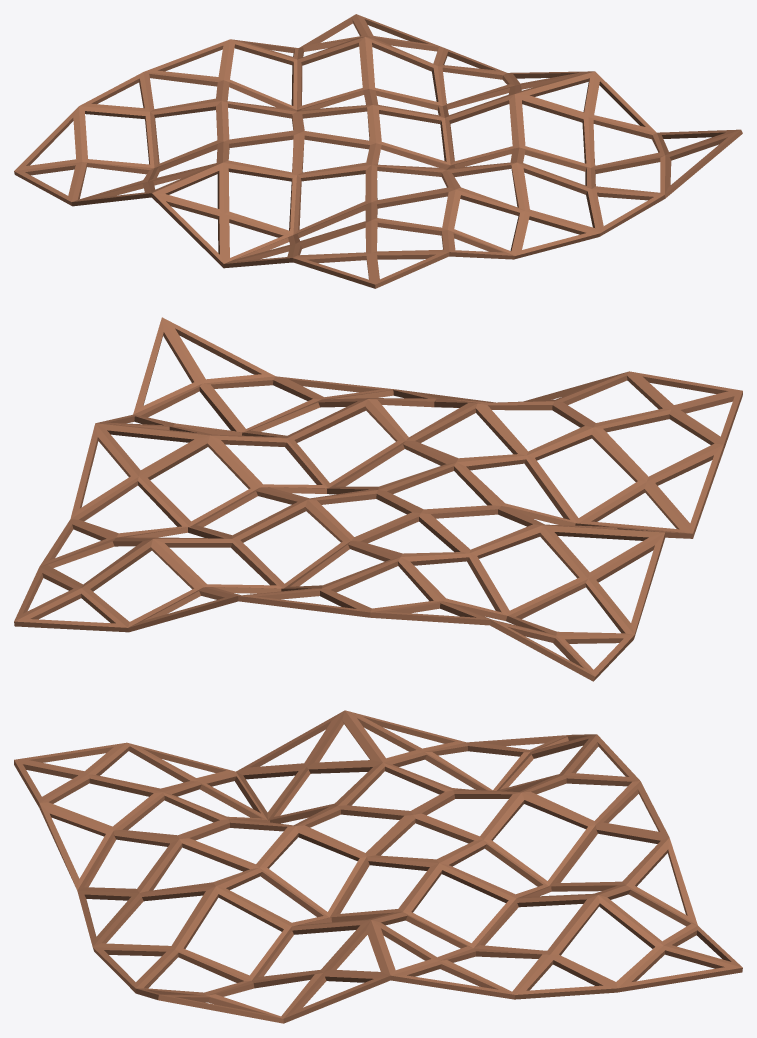
3 renders of one model, top to bottom at view 1: azimuth 30°, elevation 25°; view 2: azimuth 150°, elevation 25°; view 3: azimuth 270°, elevation 25°, orthographic. The views are drawn at different scales.
Visible parts, largest first — view 1: SM_Grid_01; view 2: SM_Grid_01; view 3: SM_Grid_01.
Part boxes in pixels (box(x1,y1,x2,y2)): SM_Grid_01: box(14, 14, 742, 288); SM_Grid_01: box(14, 317, 742, 681); SM_Grid_01: box(14, 710, 742, 1023).
Bounding box in the file's own units: 1.33 × 0.1113 × 1.34.
Materials: 1 (1 with a texture image).
